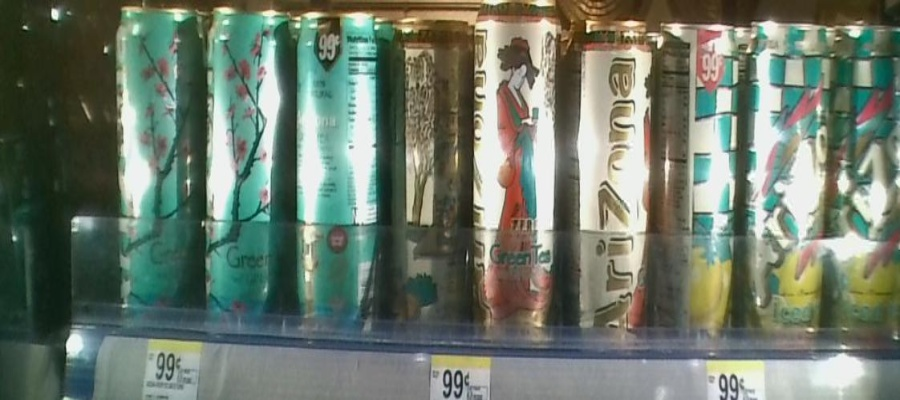bottle: (473, 16, 566, 352), (655, 6, 738, 368), (111, 5, 201, 337), (298, 14, 386, 353), (745, 5, 829, 359), (205, 1, 292, 340), (570, 2, 652, 345), (389, 9, 470, 348), (833, 11, 900, 343)
